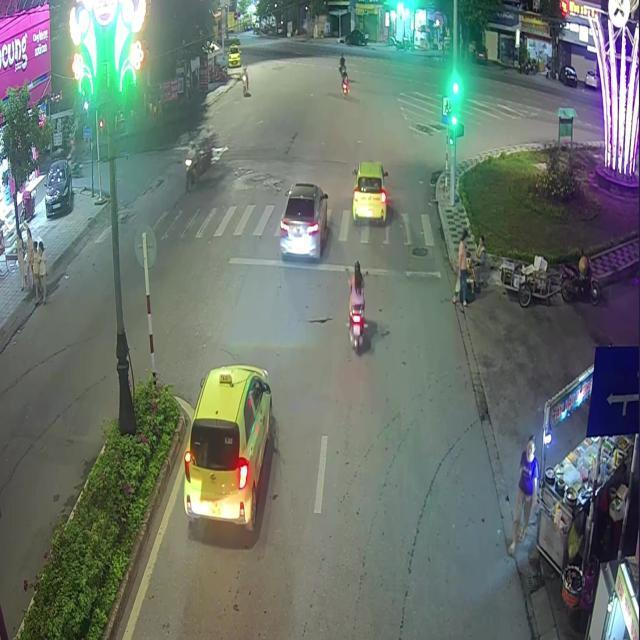car: (181, 363, 271, 530), (279, 183, 327, 258), (351, 161, 387, 221)
green_light: (447, 77, 460, 131)
stop_line: (228, 256, 440, 277)
